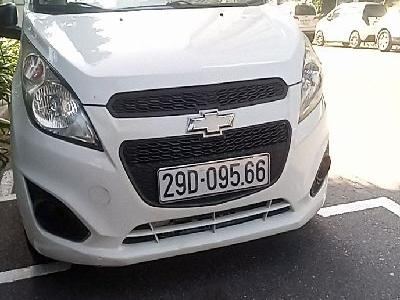number: (157, 153, 273, 202)
